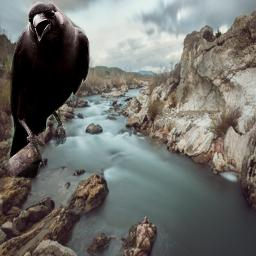Crow: (7, 1, 90, 178)
